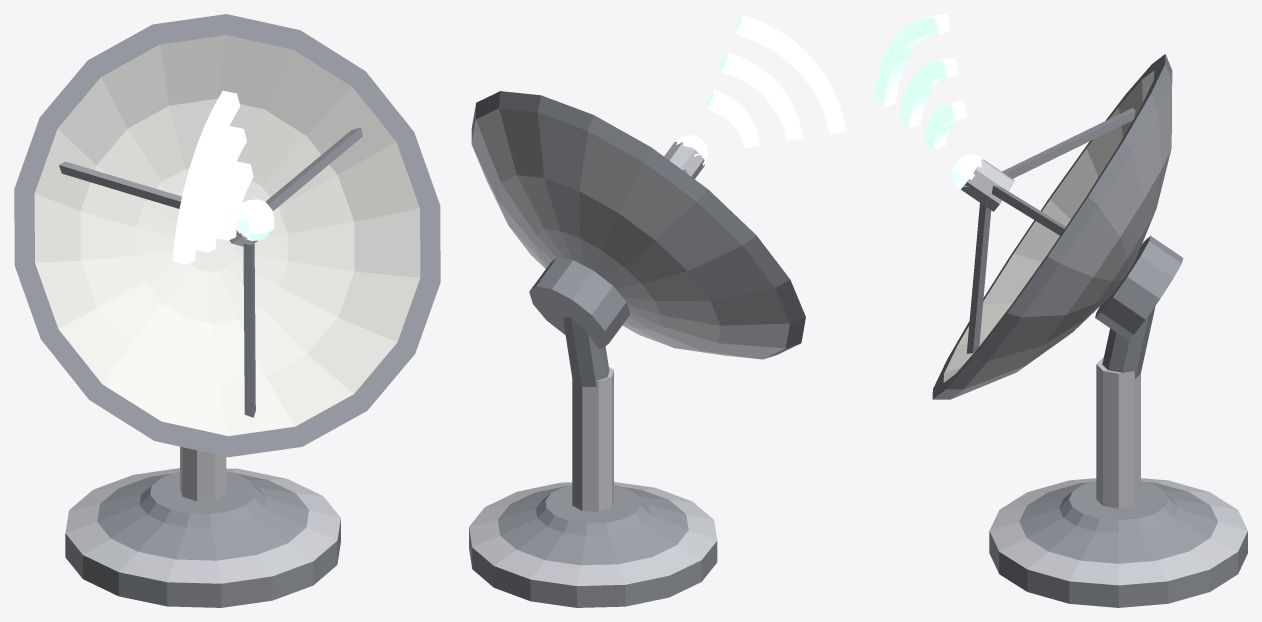
Rendered from item_scanner.glb.
3 renders of one model, left to right at view 1: azimuth 30°, elevation 25°; view 2: azimuth 150°, elevation 25°; view 3: azimuth 270°, elevation 25°, orthographic. The views are drawn at different scales.
Parts seen in each view (by area): view 1: item_scanner; view 2: item_scanner; view 3: item_scanner.
Boxes of the visible parts, left/top/right/bottom form: item_scanner: left=14, top=14, right=440, bottom=607; item_scanner: left=469, top=14, right=845, bottom=607; item_scanner: left=874, top=14, right=1247, bottom=607.
Size of the model in its own units: 0.8233 by 1.12 by 0.7522.
